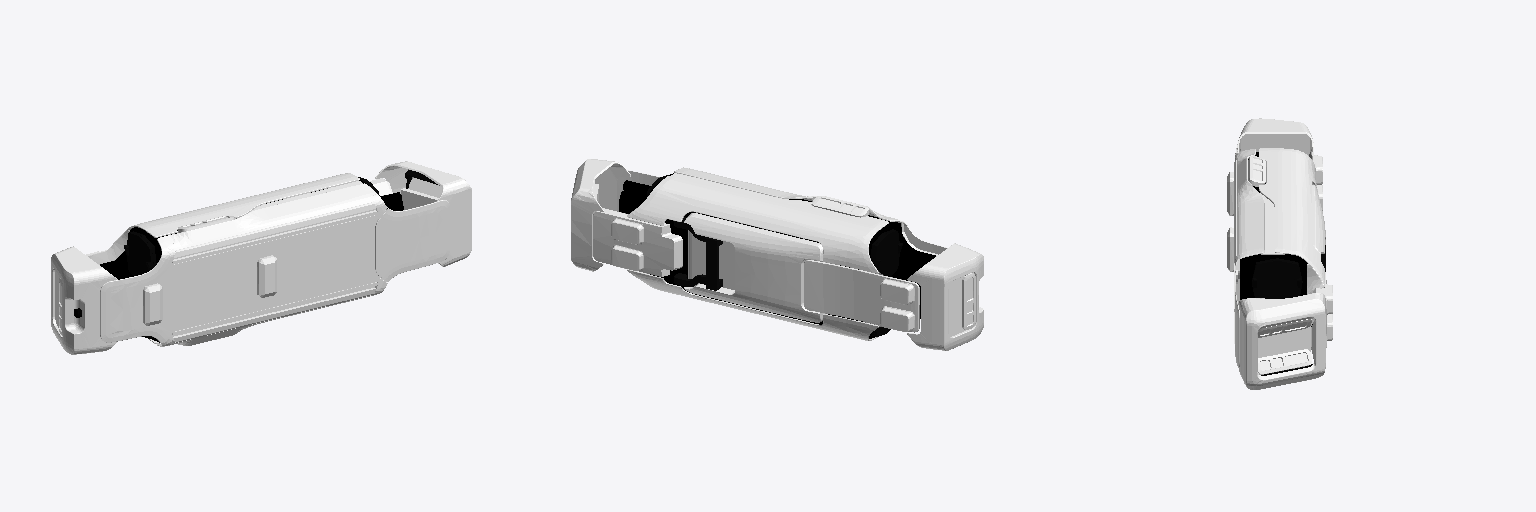
File: body_visuals_mesh_0.obj
3 views of the same model, side by side, from view 1: azimuth 30°, elevation 25°; view 2: azimuth 150°, elevation 25°; view 3: azimuth 270°, elevation 25° (orthographic).
Bounding box in the file's own units: 0.8728 × 0.2434 × 0.2001.